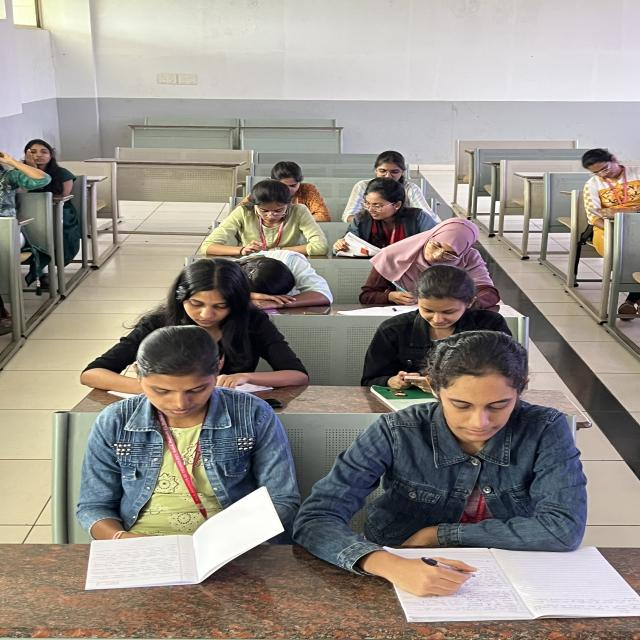Hand Rising: (1, 140, 81, 296)
Reading: (71, 346, 337, 586), (83, 274, 313, 390), (198, 178, 329, 262), (332, 175, 422, 250)
Using Phone: (362, 274, 499, 369)
Writing: (314, 342, 576, 596), (367, 216, 483, 307)
